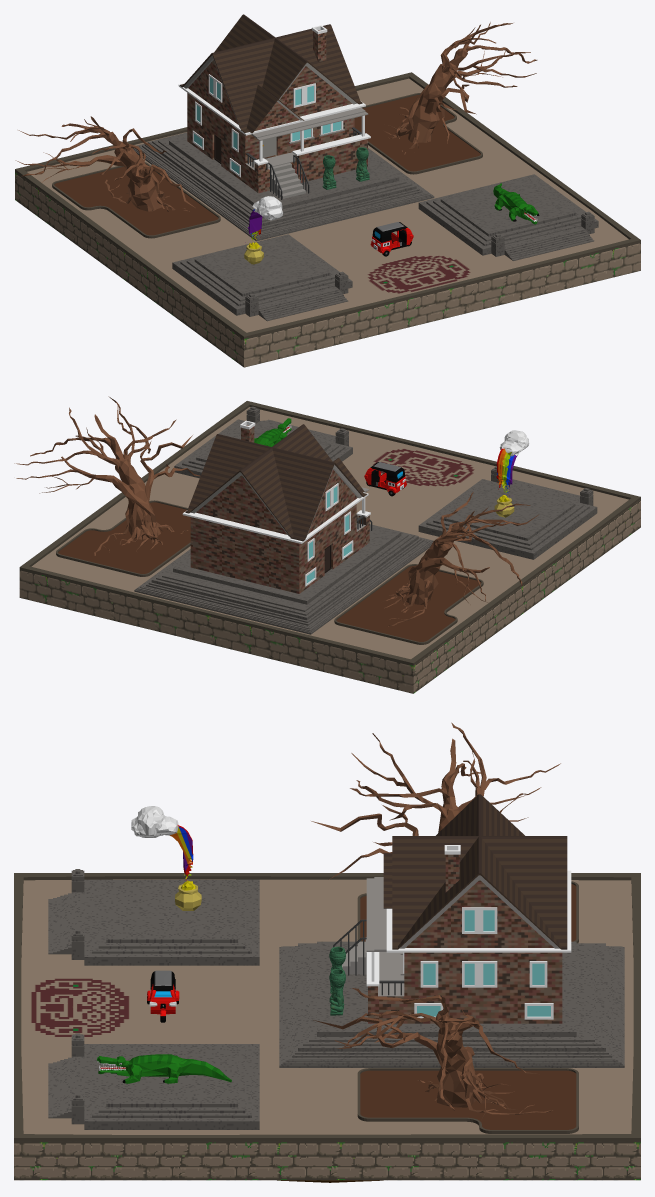
3 renders of one model, top to bottom at view 1: azimuth 30°, elevation 25°; view 2: azimuth 150°, elevation 25°; view 3: azimuth 270°, elevation 25°, orthographic. The views are drawn at different scales.
Visible parts, largest first — view 1: Cube.011, Cube.117, OBJRANDOM_RAINBOW, VEHICLES_TUC_TUC, ANIMAL_COCODRILO; view 2: Cube.011, Cube.117, OBJRANDOM_RAINBOW, VEHICLES_TUC_TUC, ANIMAL_COCODRILO; view 3: Cube.011, Cube.117, ANIMAL_COCODRILO, OBJRANDOM_RAINBOW, VEHICLES_TUC_TUC.
Boxes of the visible parts, <box> form: Cube.011: <box>15,22,640,367</box>; Cube.117: <box>178,14,370,199</box>; OBJRANDOM_RAINBOW: <box>244,196,283,264</box>; VEHICLES_TUC_TUC: <box>370,222,413,256</box>; ANIMAL_COCODRILO: <box>493,183,539,224</box>; Cube.011: <box>14,396,640,693</box>; Cube.117: <box>182,420,372,593</box>; OBJRANDOM_RAINBOW: <box>494,430,529,517</box>; VEHICLES_TUC_TUC: <box>364,462,406,496</box>; ANIMAL_COCODRILO: <box>254,418,291,446</box>; Cube.011: <box>14,722,640,1180</box>; Cube.117: <box>333,794,571,1023</box>; ANIMAL_COCODRILO: <box>97,1054,231,1083</box>; OBJRANDOM_RAINBOW: <box>131,806,201,910</box>; VEHICLES_TUC_TUC: <box>147,970,179,1022</box>.
Bounding box in the file's own units: 5099 × 1726 × 4000.
43 materials, 6 textured.
